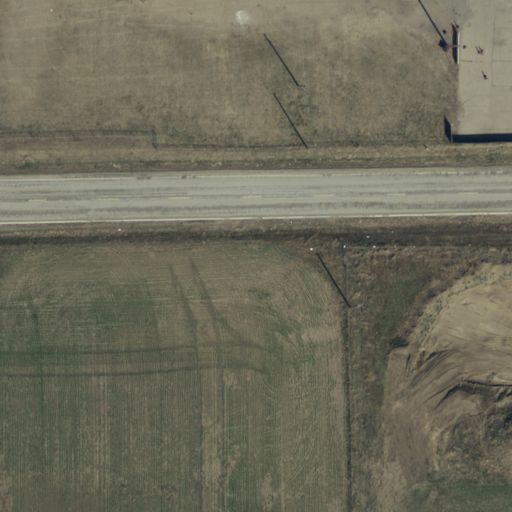DT: (436, 29, 463, 58), (342, 292, 370, 319), (292, 74, 315, 99), (300, 136, 323, 158)
